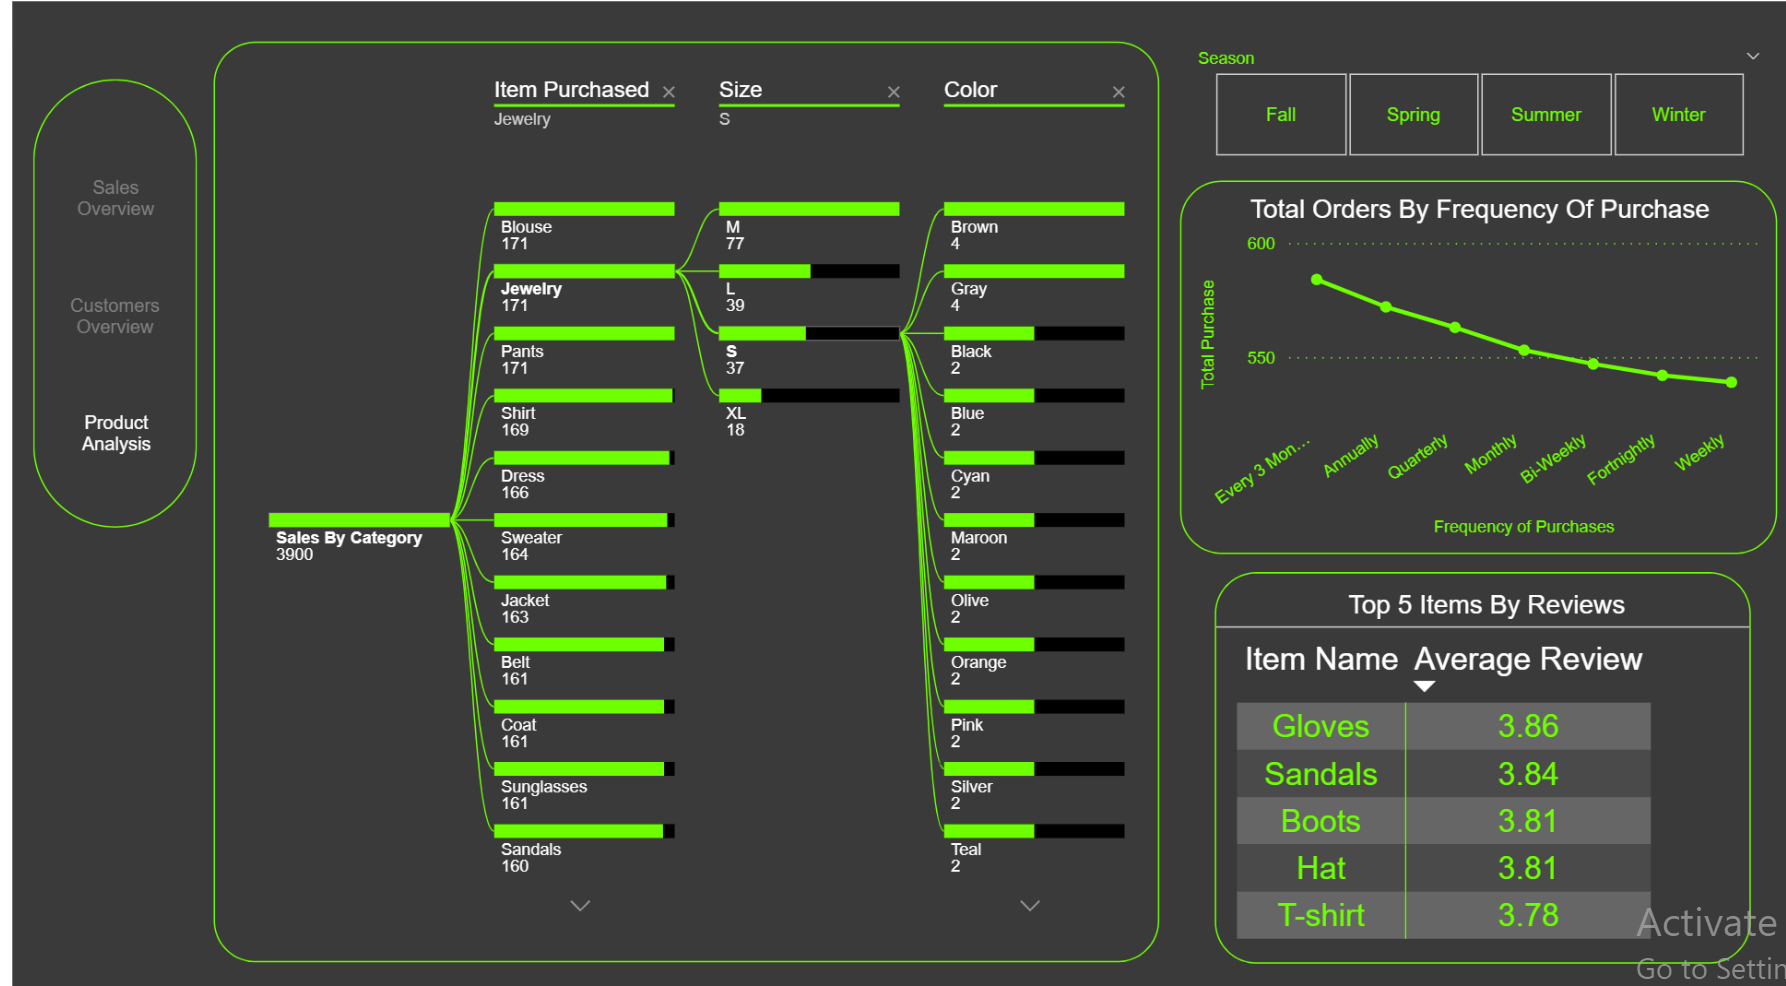

The page's visual inventory and layout, read from the dashboard file:
{"tool":"powerbi","page":{"name":"Product Analysis","canvas":[1280,720],"ordinal":2},"visuals":[{"type":"shape","box":[15.1,56,118.2,322.7],"z":0},{"type":"actionButton","box":[24,106.8,101.4,70.7],"z":1000},{"type":"actionButton","box":[24,190.8,100.1,70.7],"z":2000},{"type":"actionButton","box":[25.4,274.9,100.1,70.7],"z":3000},{"type":"decompositionTreeVisual","fields":{"Analyze":["CountNonNull(shopping_trends_updated.Category)"],"ExplainBy":["shopping_trends_updated.Item Purchased","shopping_trends_updated.Size","shopping_trends_updated.Color"]},"box":[145.4,28.8,680.1,663.5],"z":4000},{"type":"pivotTable","title":"Top 5 Items By Reviews","fields":{"Rows":["shopping_trends_updated.Item Purchased"],"Values":["Avg(shopping_trends_updated.Review Rating)"]},"box":[866.4,411.2,386,282.1],"z":5000},{"type":"slicer","fields":{"Values":["shopping_trends_updated.Season"]},"box":[840.7,28.8,430.2,89.4],"z":6000},{"type":"lineChart","title":"Total Orders By Frequency Of Purchase","fields":{"Category":["shopping_trends_updated.Frequency of Purchases"],"Y":["CountNonNull(shopping_trends_updated.Customer ID)"]},"box":[840.7,128.8,430.2,269.6],"z":7000}]}

Visuals, with their boxes on the page's 1280x720 design canvas (x1, y1, x2, y2). These are canvas units, not pixel positions in the 1786x986 screenshot, which may show the page scaled, cropped or inside an application window:
shape: box(15, 56, 133, 379)
actionButton: box(24, 107, 125, 178)
actionButton: box(24, 191, 124, 262)
actionButton: box(25, 275, 126, 346)
decompositionTreeVisual - CountNonNull(shopping_trends_updated.Category) x shopping_trends_updated.Item Purchased: box(145, 29, 826, 692)
"Top 5 Items By Reviews" pivotTable: box(866, 411, 1252, 693)
slicer - shopping_trends_updated.Season: box(841, 29, 1271, 118)
"Total Orders By Frequency Of Purchase" lineChart: box(841, 129, 1271, 398)
